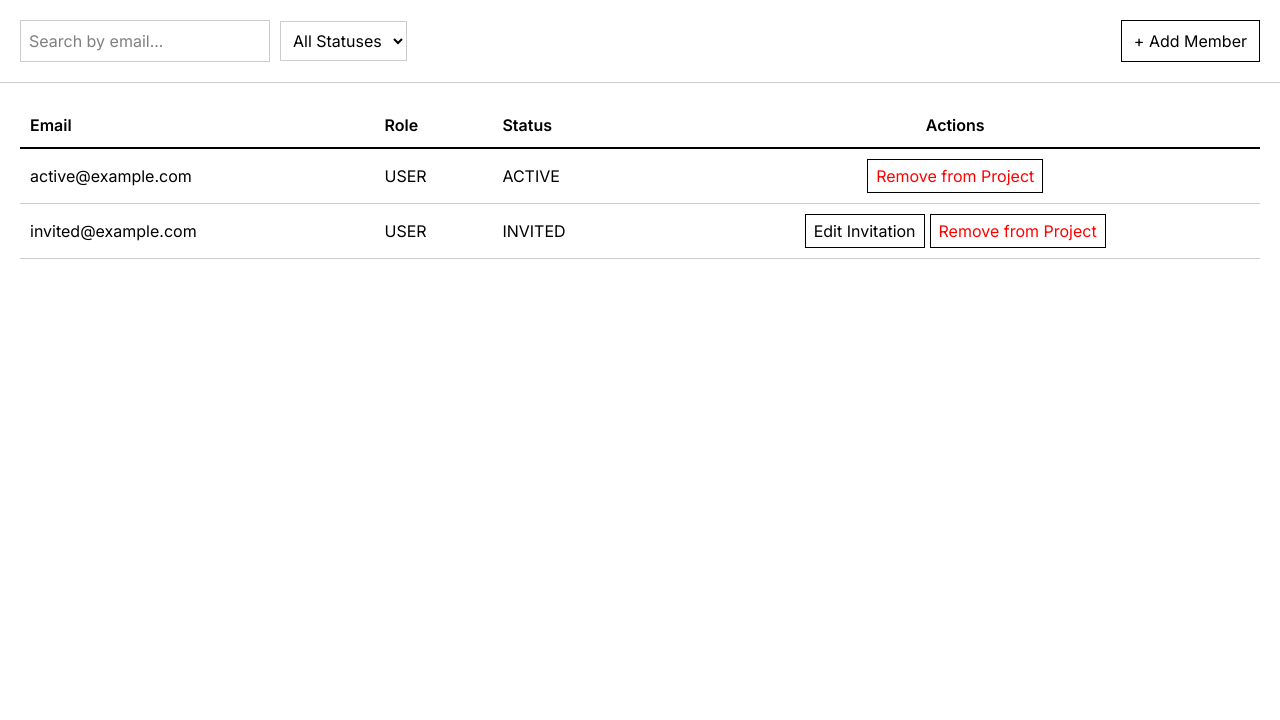
Test: MembersScreen › removes a member via DELETE then refetches
Expected: the text "active@example.com" is shown, [20,148,374,204]
Click the button "Remove from Project" in the row of "active@example.com": [955, 176] box [867,159,1043,193]
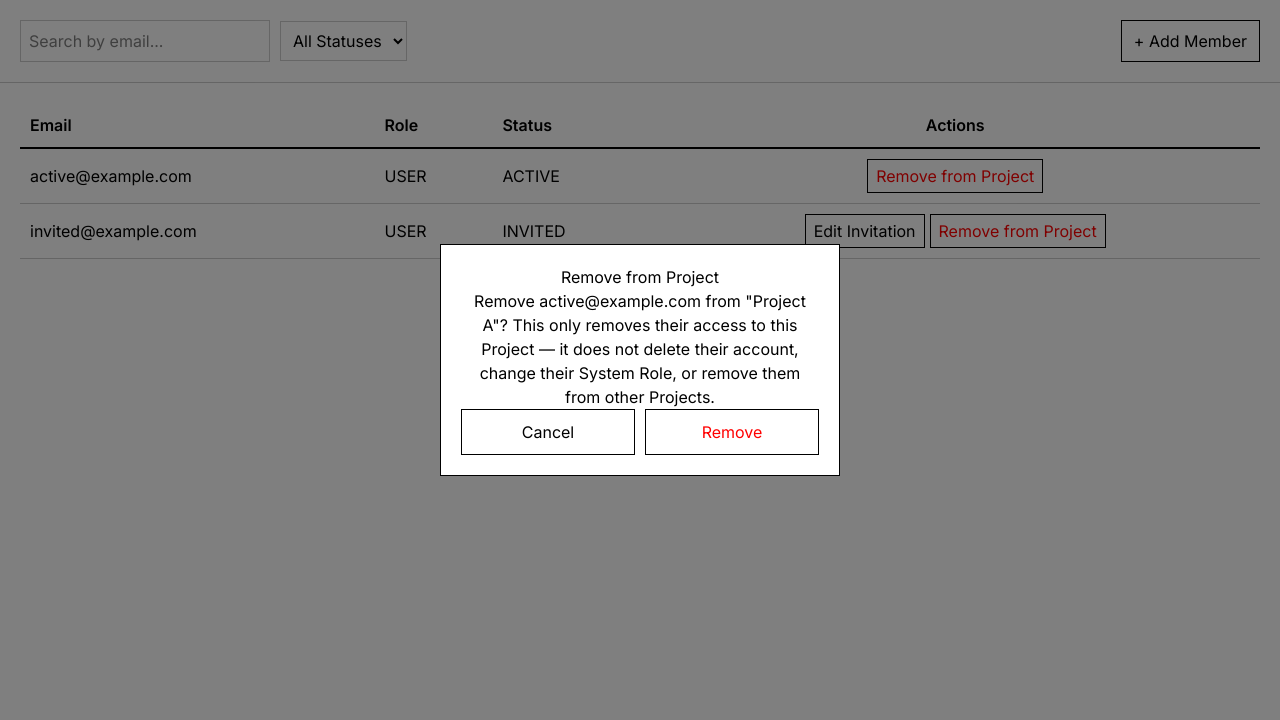
Click the button "Remove": [732, 432] box [645,409,819,455]
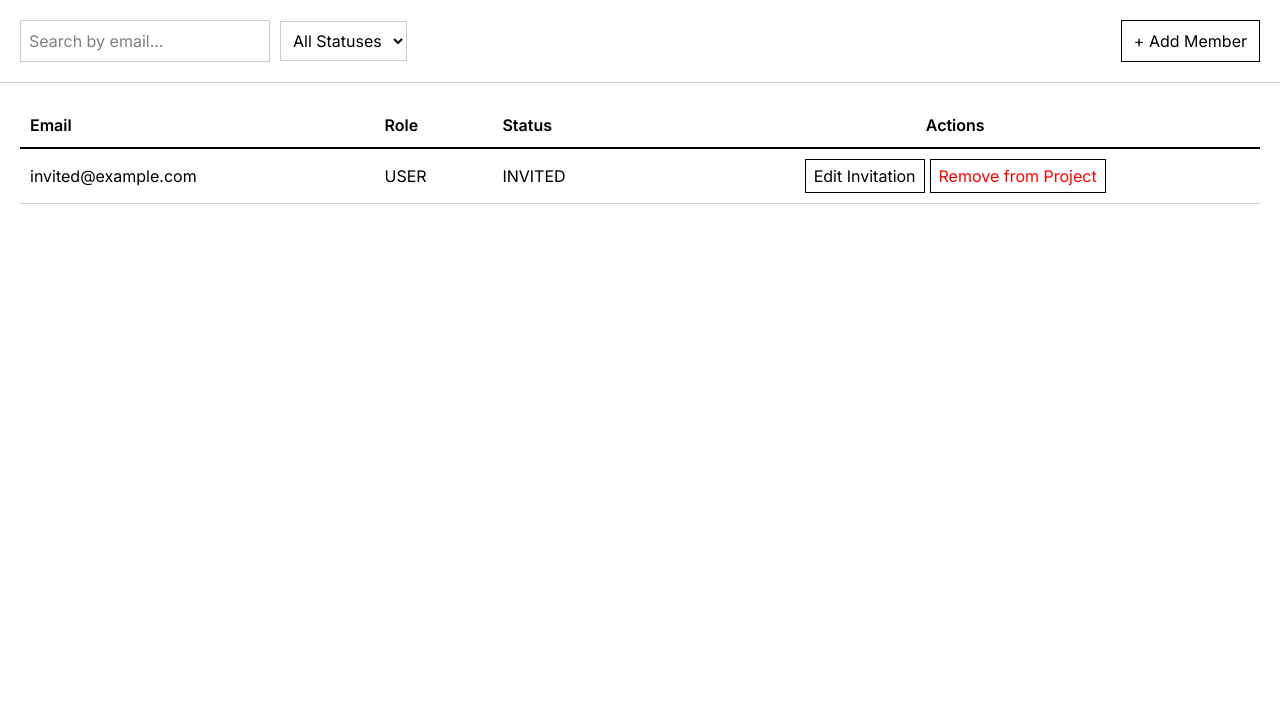
Expected: the text "active@example.com" is gone
